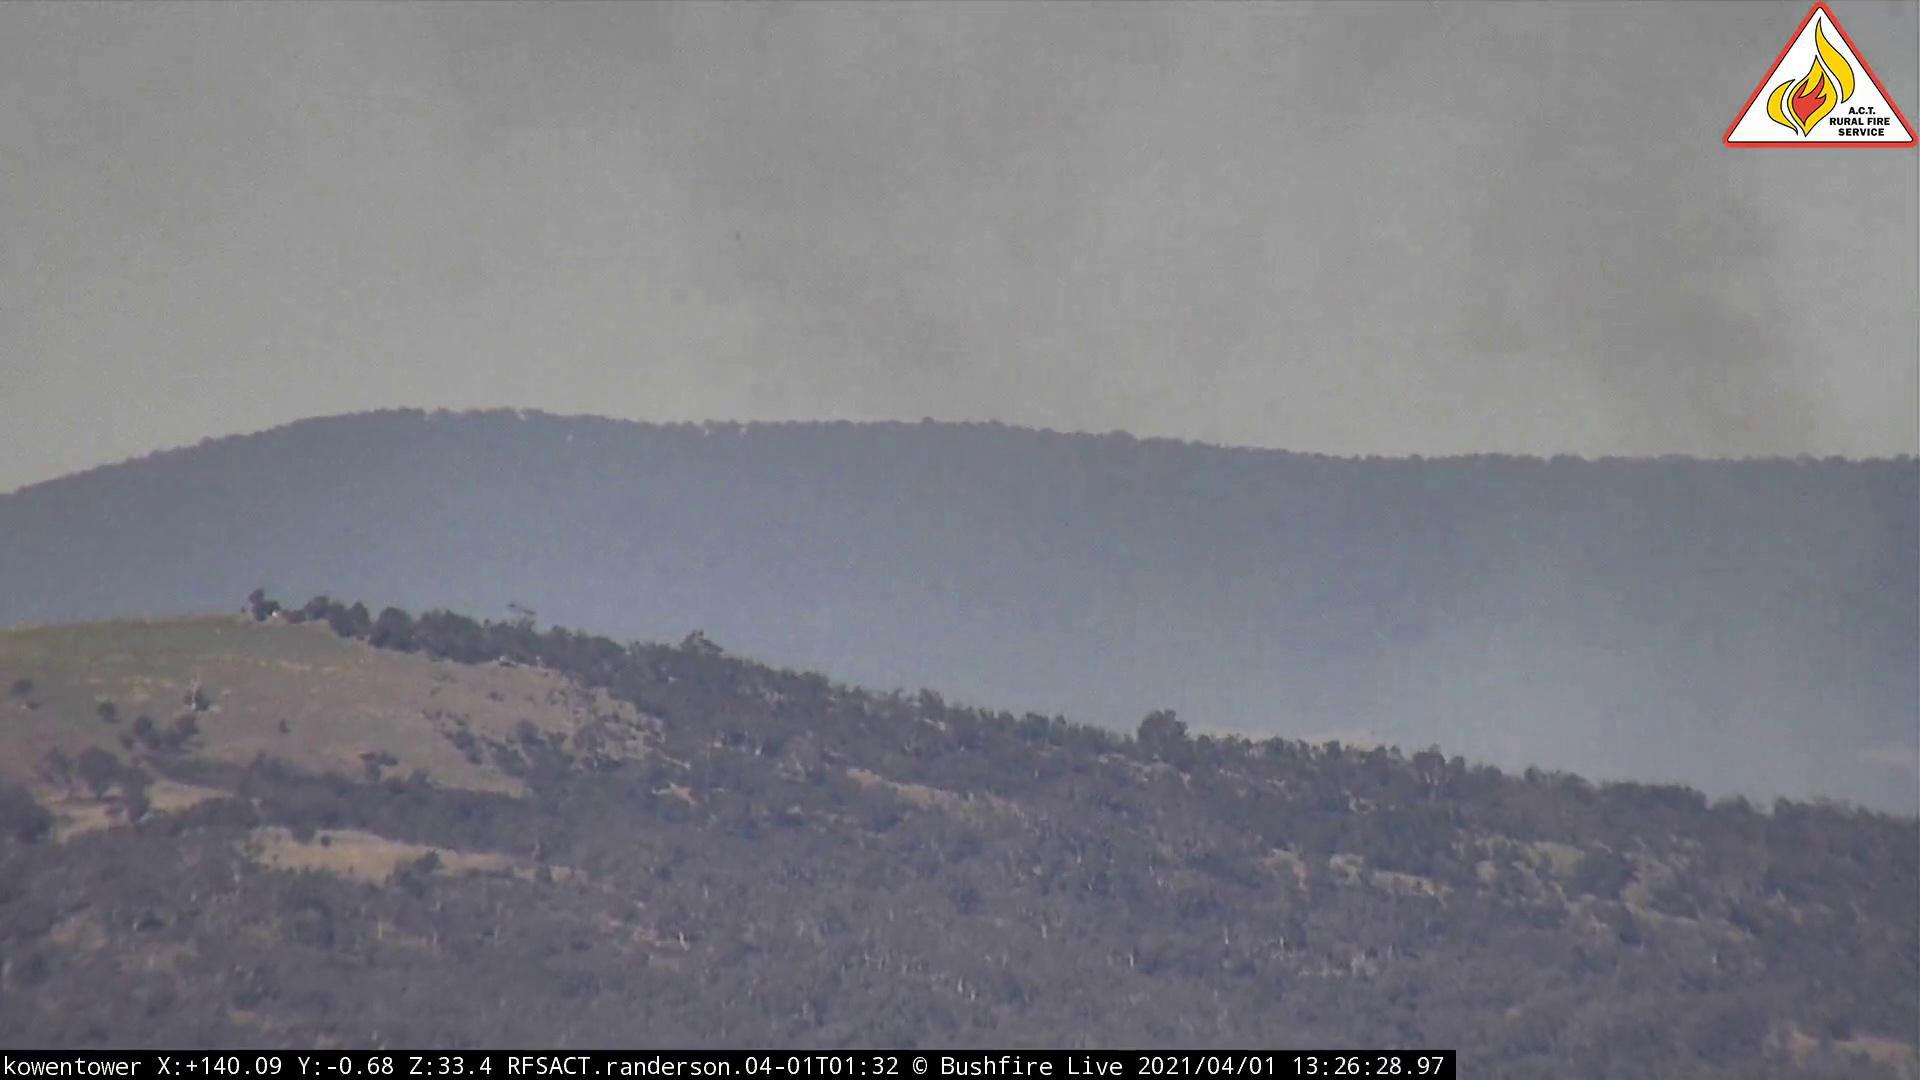Smoke: (596, 3, 1920, 680)
